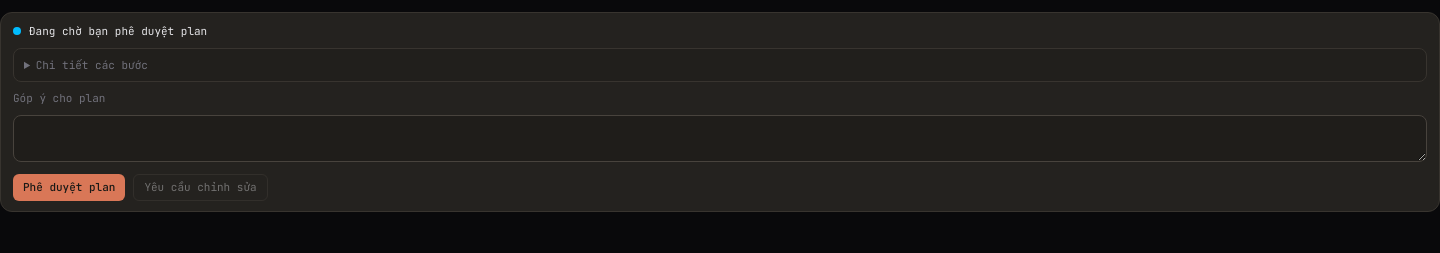
TaskWorkflowCard › shows approval progress and locks plan controls while approval is pending
Type "Thêm bước kiểm tra số liệu" into the text box labelled "Góp ý cho plan" at coordinates (720, 138), box [13,114,1427,162]
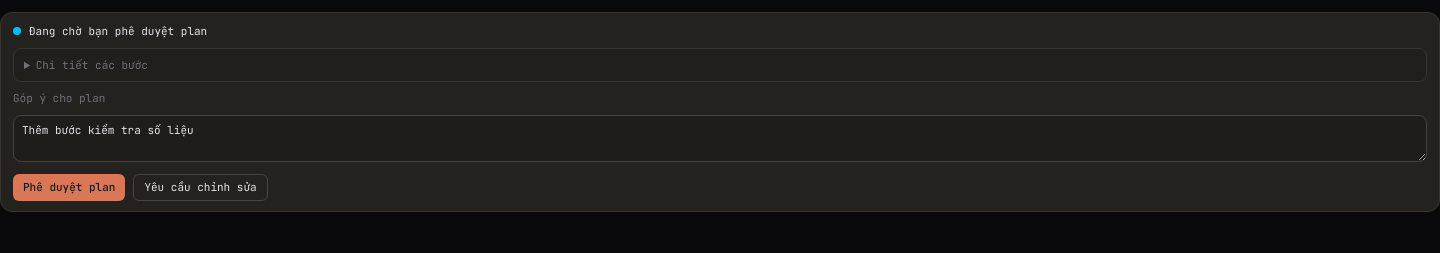
Click the button "Phê duyệt plan" at coordinates (69, 187), box [13,174,125,200]
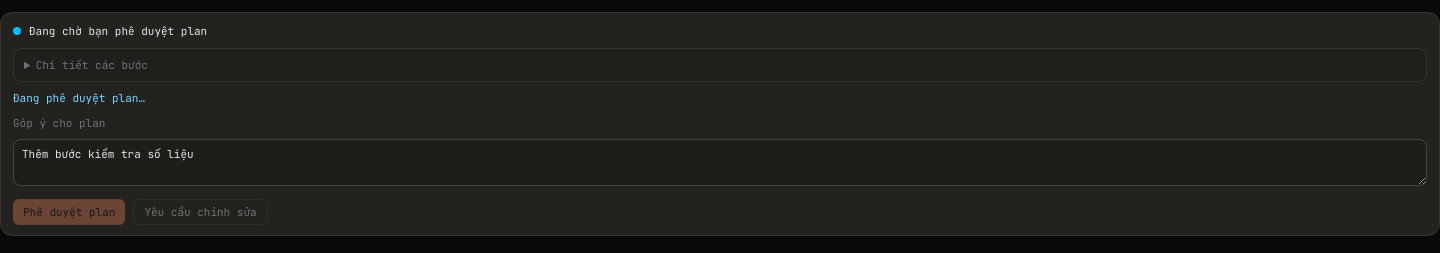
Check: the text "Đang phê duyệt plan…" is shown, box [13,91,145,105]
Check: the button "Phê duyệt plan" is disabled, box [13,198,125,225]
Check: the button "Yêu cầu chỉnh sửa" is disabled, box [133,198,268,225]
